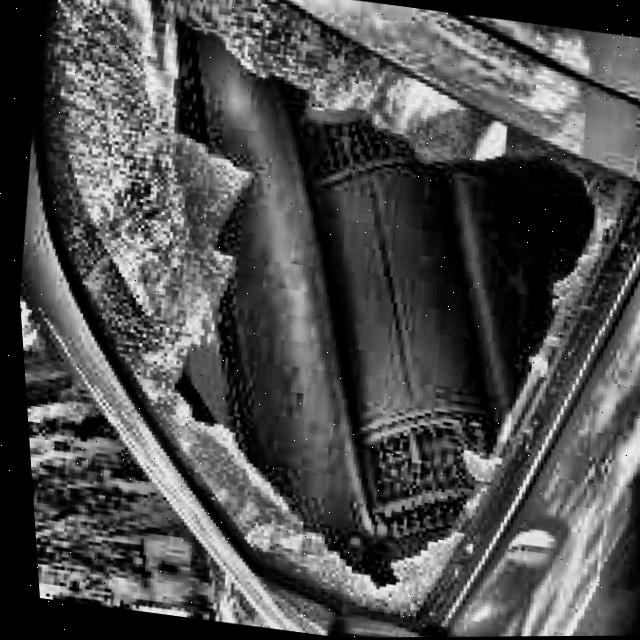glass_shatter: (54, 0, 606, 625)
